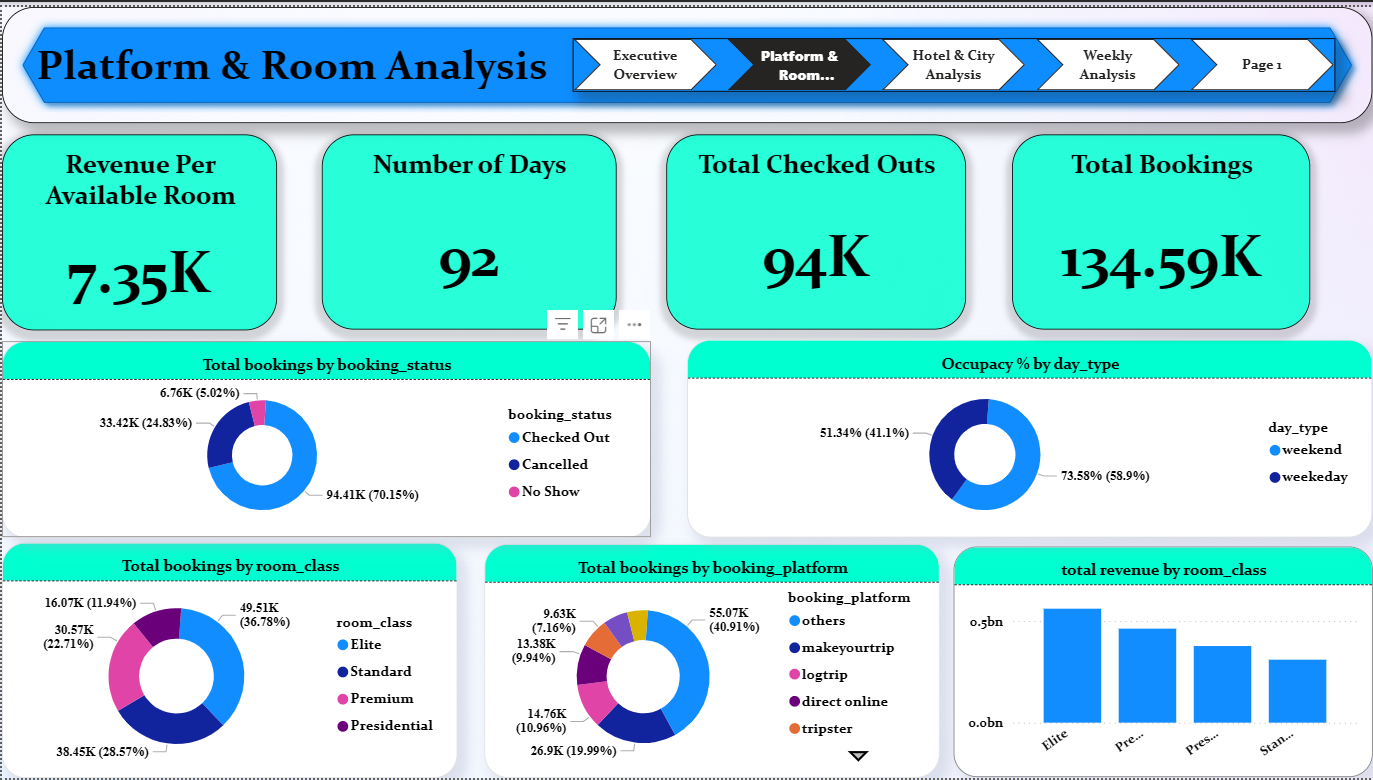

Layout of this report page (visuals, bound fields, positions):
{"tool":"powerbi","page":{"name":"Platform & Room Analysis","canvas":[1280,720],"ordinal":1},"visuals":[{"type":"shape","box":[0,0,1280,108.6],"z":0},{"type":"donutChart","fields":{"Y":["New measures.Total bookings"],"Category":["fact_bookings.booking_platform"]},"box":[450,501.4,425.7,218.6],"z":1000},{"type":"donutChart","fields":{"Y":["New measures.Total bookings"],"Category":["dim_rooms.room_class"]},"box":[0,500,425.7,220],"z":2000},{"type":"card","title":"Revenue Per Available Room","fields":{"Values":["New measures.Revenue per Available Room"]},"box":[0,118.6,257.1,182.9],"z":3000},{"type":"columnChart","fields":{"Category":["dim_rooms.room_class"],"Y":["New measures.total revenue"]},"box":[888.6,504.3,391.4,215.7],"z":4000},{"type":"card","title":"Number of Days","fields":{"Values":["New measures.No of Days"]},"box":[298.8,118.8,275,182.5],"z":5000},{"type":"card","title":"Total Checked Outs","fields":{"Values":["New measures.Total checkouts"]},"box":[620,118.8,280,182.5],"z":6000},{"type":"pieChart","fields":{"Category":["fact_bookings.booking_status"],"Y":["New measures.Total bookings"]},"box":[0,311.8,605.9,183.8],"z":7000},{"type":"donutChart","fields":{"Category":["dim_date.day_type"],"Y":["New measures.Occupacy %"]},"box":[640,311.2,640,185],"z":8000},{"type":"card","title":"Total Bookings","fields":{"Values":["New measures.Total bookings"]},"box":[943.8,118.8,278.8,182.5],"z":9000},{"type":"pageNavigator","box":[532.5,28.8,712.5,50],"z":10000}]}

Visuals, with their boxes in screenshot pixels (x1, y1, x2, y2), scaled from the page's 1280x720 canvas onto the 1373x780 screenshot:
shape: box(0, 0, 1372, 118)
donutChart - New measures.Total bookings x fact_bookings.booking_platform: box(483, 543, 939, 779)
donutChart - New measures.Total bookings x dim_rooms.room_class: box(0, 542, 457, 779)
"Revenue Per Available Room" card: box(0, 128, 276, 327)
columnChart - dim_rooms.room_class x New measures.total revenue: box(953, 546, 1372, 779)
"Number of Days" card: box(321, 129, 615, 326)
"Total Checked Outs" card: box(665, 129, 965, 326)
pieChart - fact_bookings.booking_status x New measures.Total bookings: box(0, 338, 650, 537)
donutChart - dim_date.day_type x New measures.Occupacy %: box(686, 337, 1372, 538)
"Total Bookings" card: box(1012, 129, 1311, 326)
pageNavigator: box(571, 31, 1335, 85)
